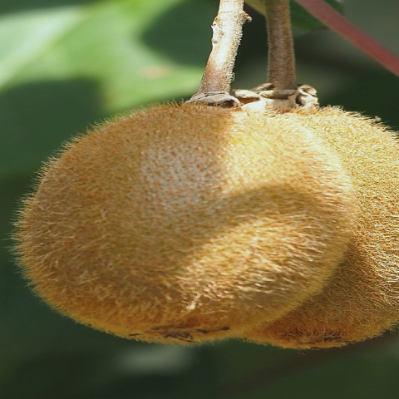kiwi: (11, 85, 356, 364)
